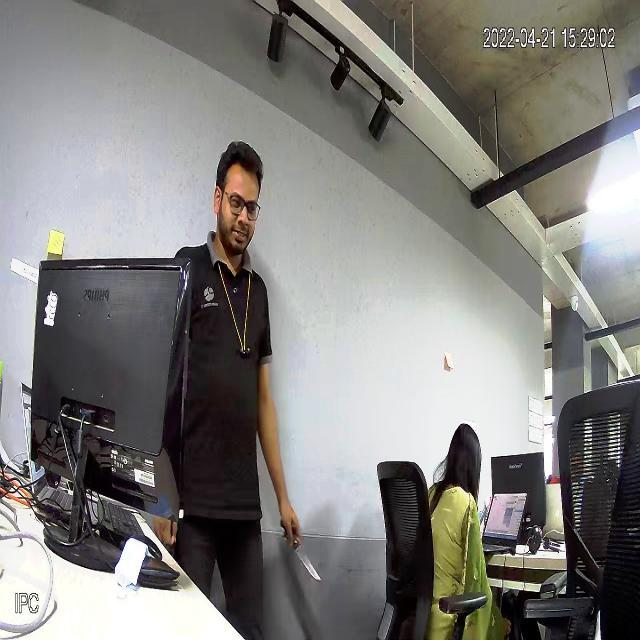Knife: (283, 510, 339, 595)
